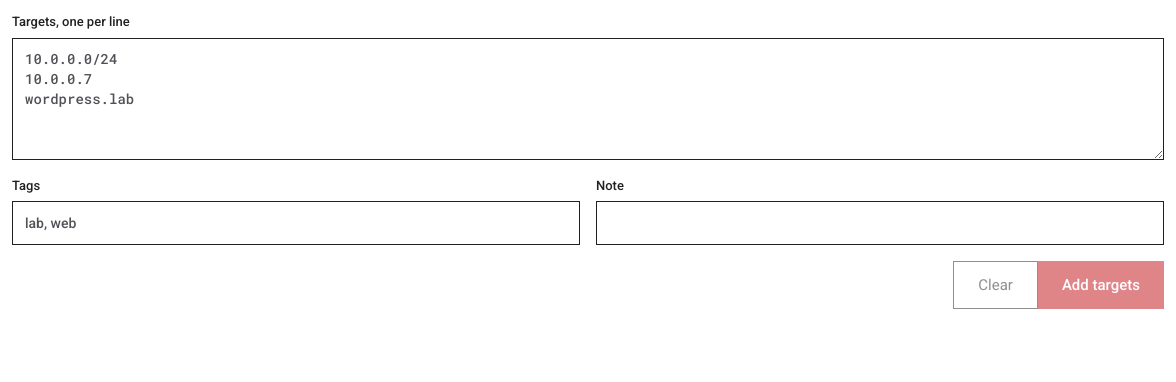
Scenario: duplicate targets › shows the conflict by the manual form and retains the entry
Step 1. Type "10.0.0.1" into the text box labelled "Targets, one per line" → (588, 98), box x1=12 y1=38 x2=1164 y2=160
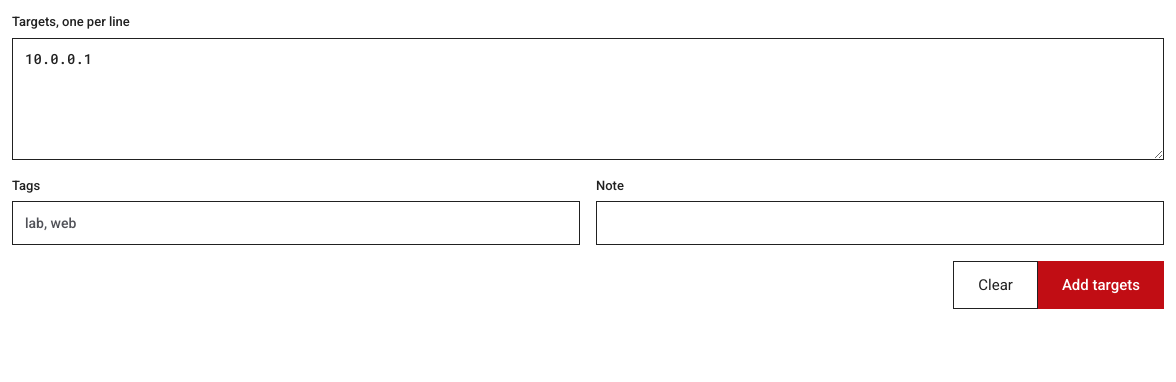
Step 2. Click the button "Add targets" → (1101, 285), box x1=1038 y1=261 x2=1164 y2=309
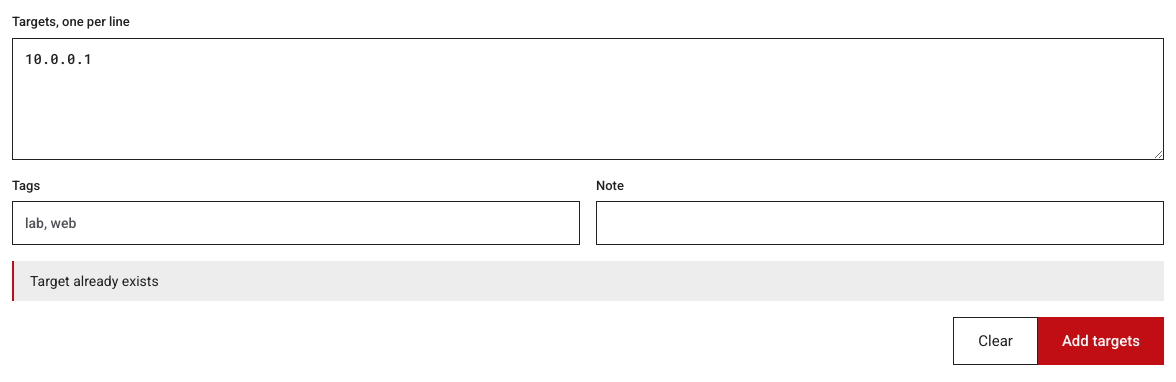
Now the message reads "Target already exists", box x1=30 y1=273 x2=159 y2=289
